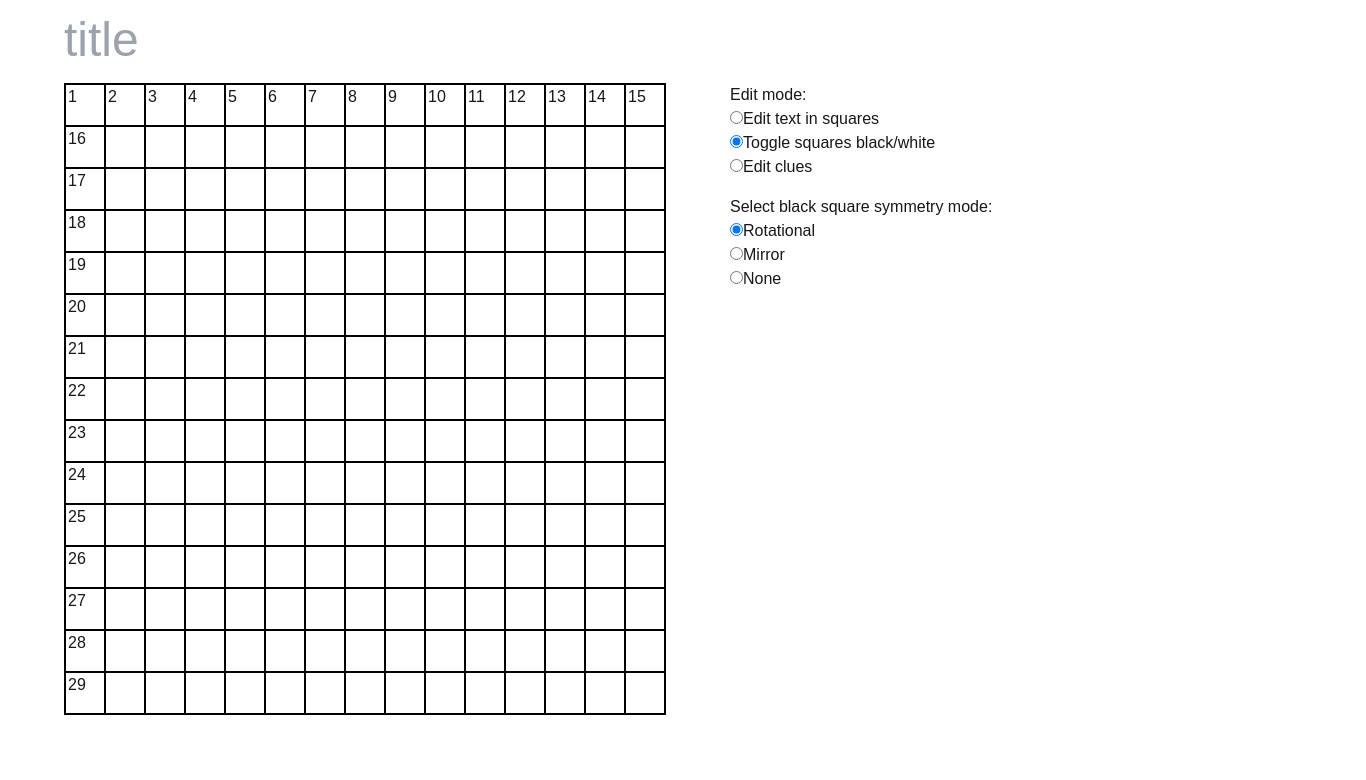
Scenario: After selecting edit clues mode › renders the clues section
Click the radio button with test id "mode-clues-button" at coordinates (736, 166), box [730,159,743,172]
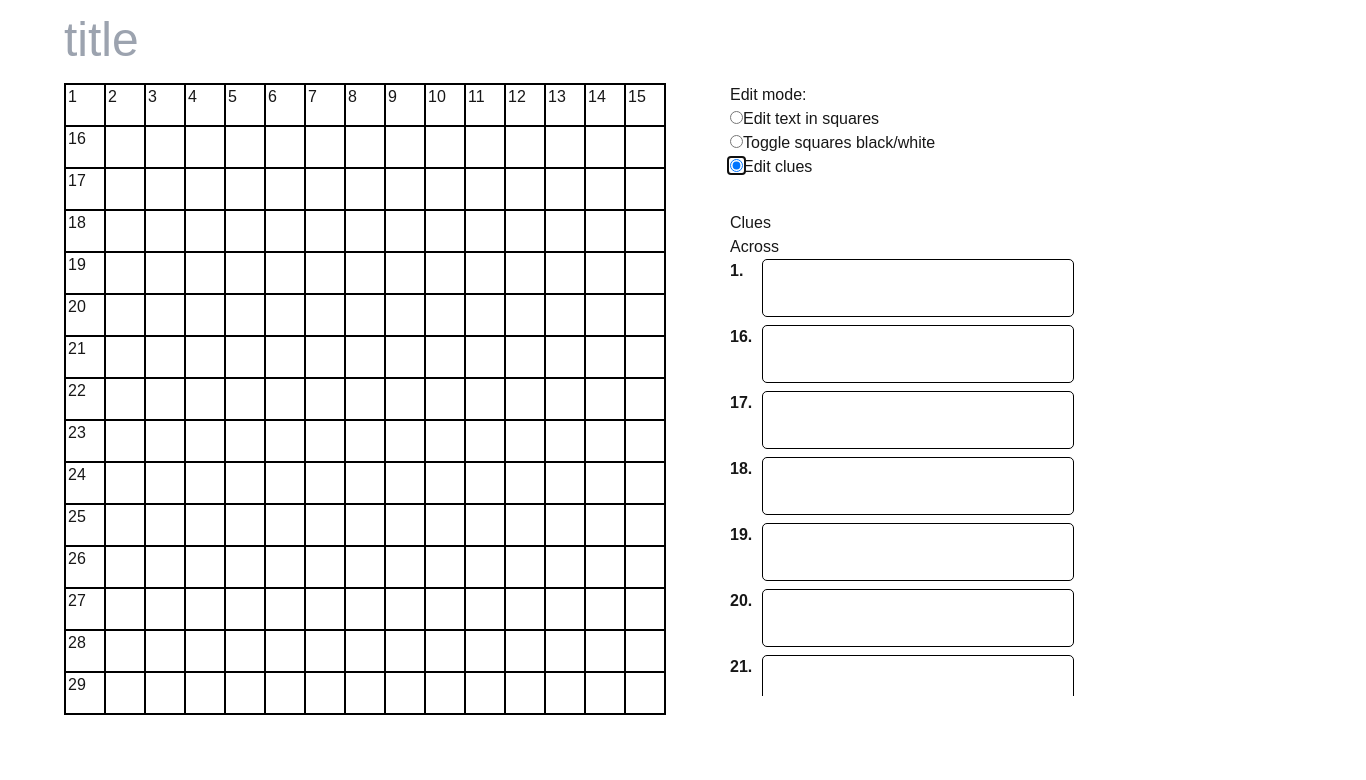
Expected: the element with test id "clues" is shown, [730,214,1074,713]
